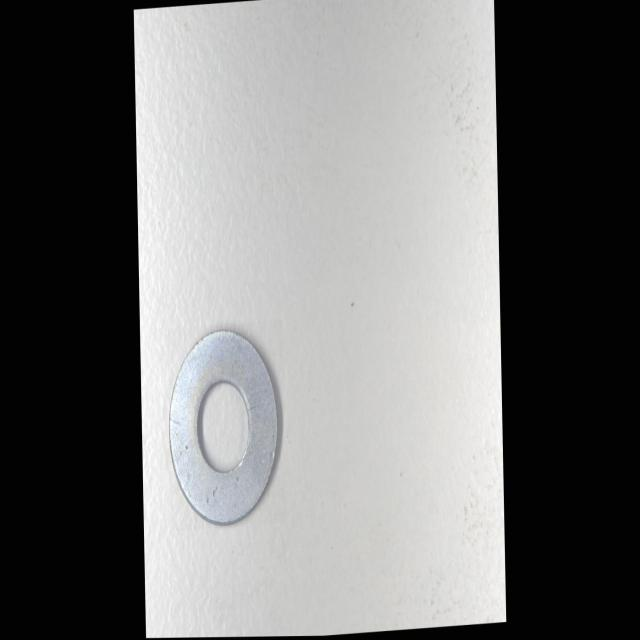washer: (170, 324, 284, 528)
